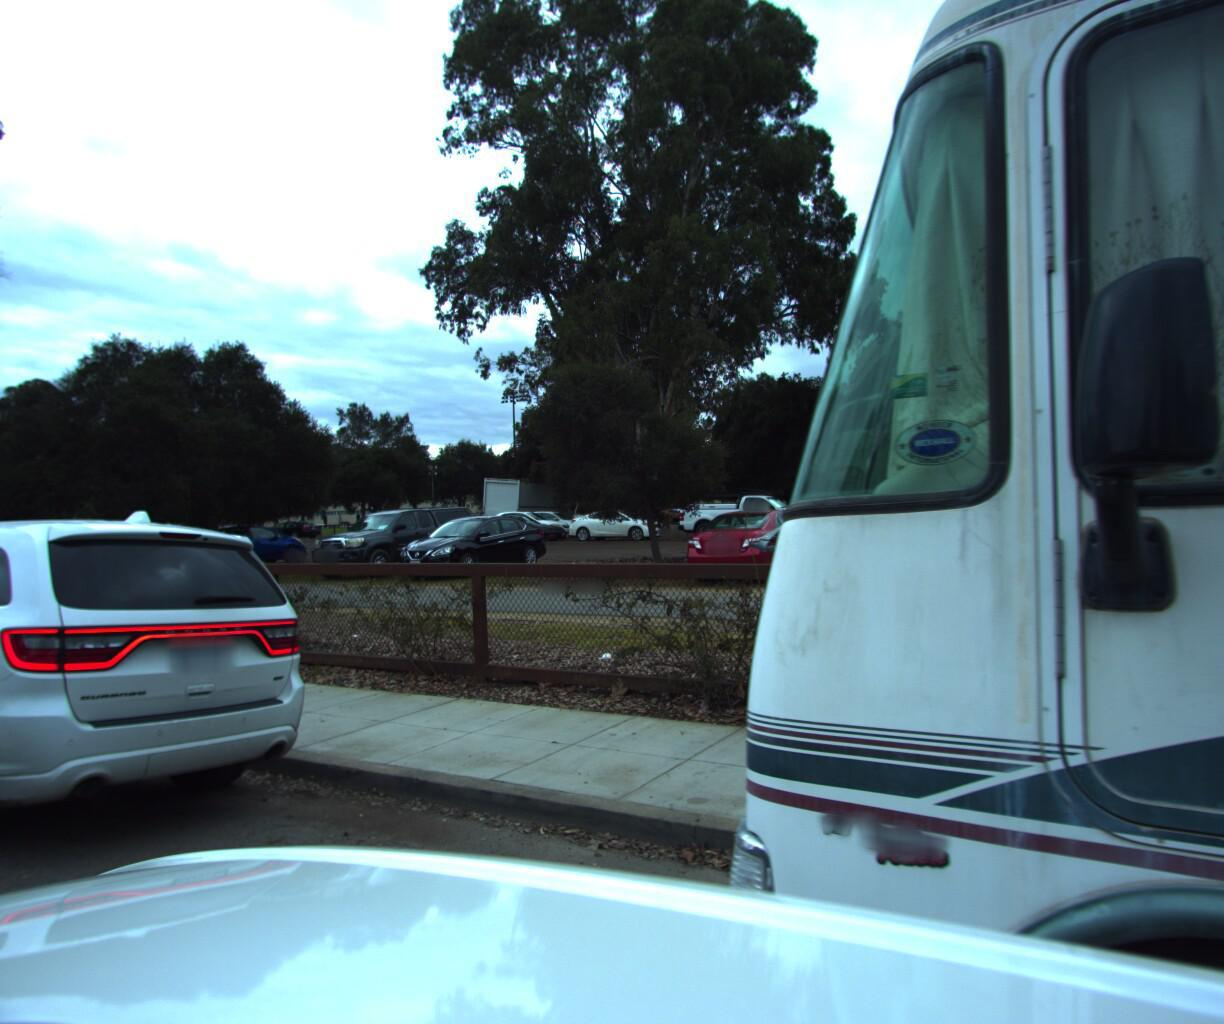car: (0, 501, 354, 933)
